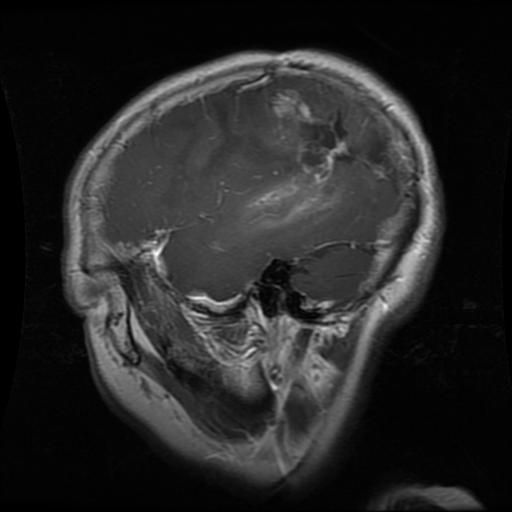Gliomia_tumour: (236, 88, 362, 231)
